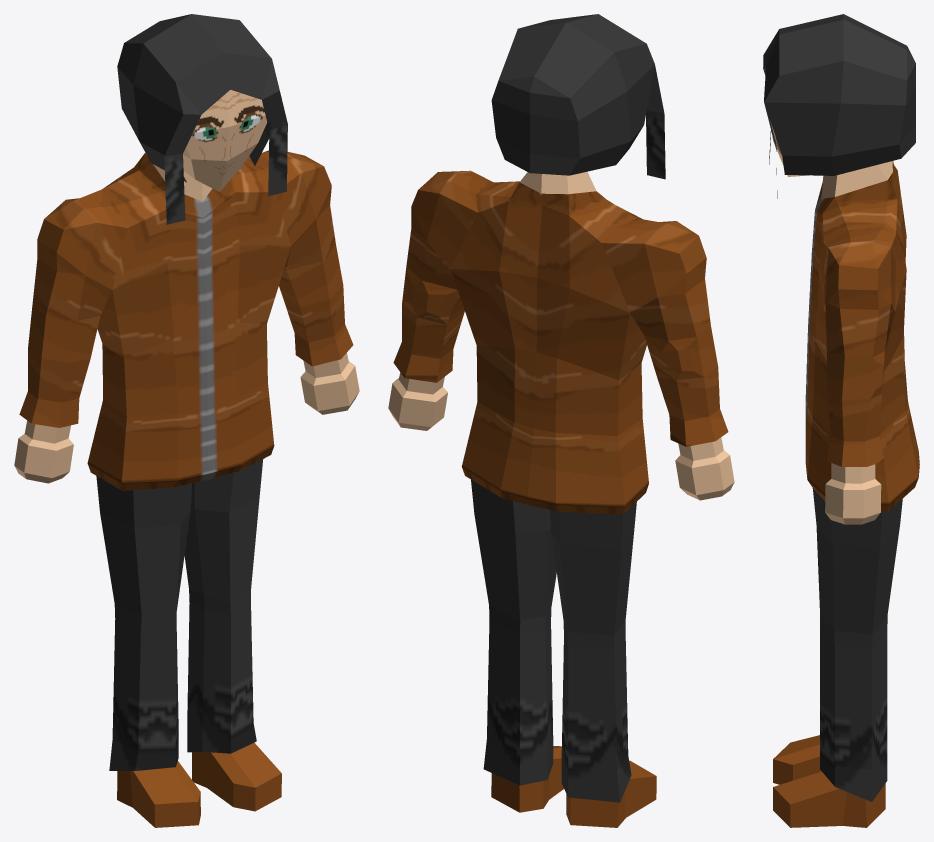
Rendered from Villager1.fbx.
3 renders of one model, left to right at view 1: azimuth 30°, elevation 25°; view 2: azimuth 150°, elevation 25°; view 3: azimuth 270°, elevation 25°, orthographic.
Parts seen in each view (by area): view 1: Humane; view 2: Humane; view 3: Humane.
Part boxes in pixels (x1,y1,x2,y2): Humane: (14, 14, 359, 827); Humane: (388, 14, 734, 827); Humane: (763, 14, 919, 827).
Bounding box in the file's own units: 74.7 × 166 × 30.28.
1 material, 1 textured.
